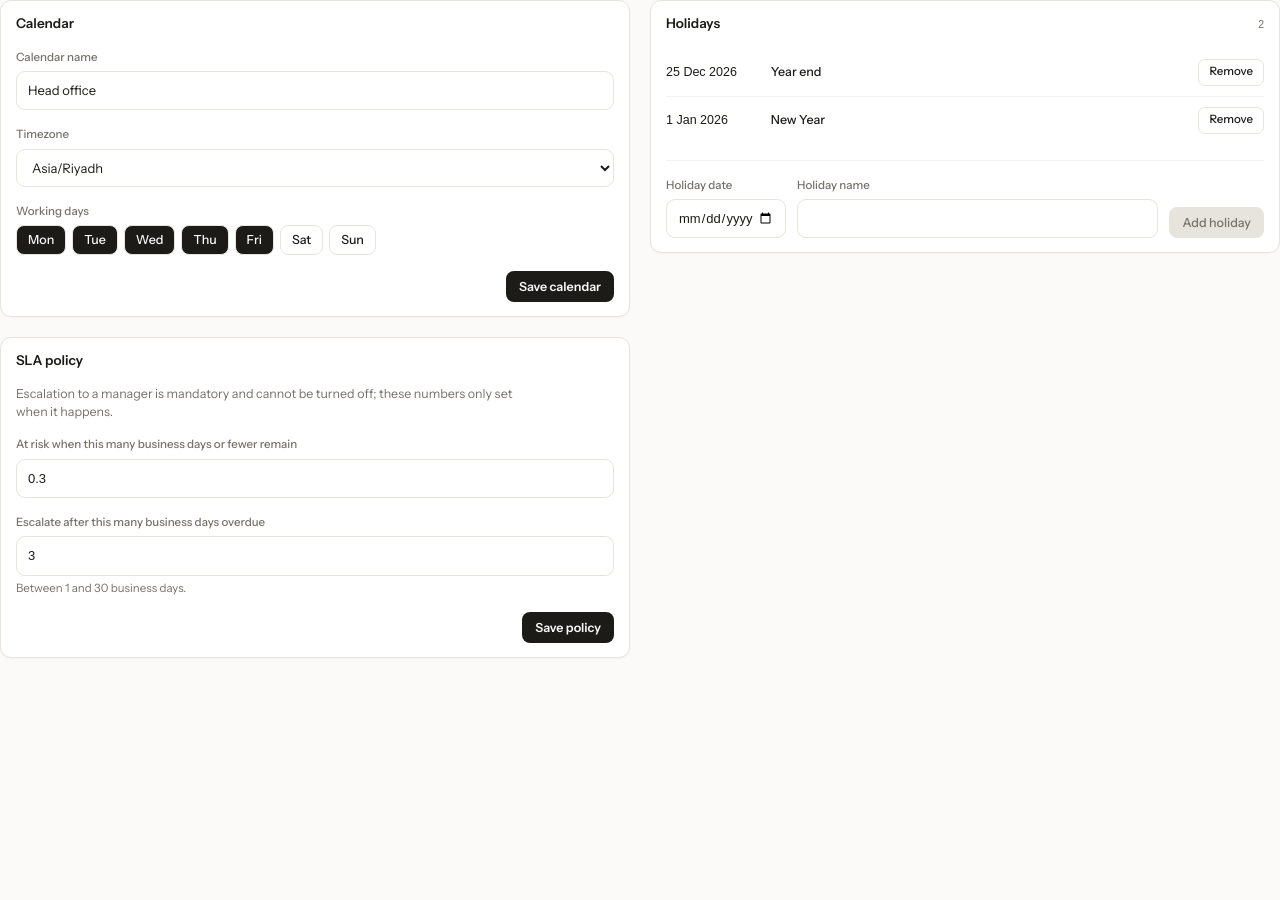
it: business calendar page › shows the server detail when the timezone is rejected
What coordinates should you click on to do the following:
click the button "Save calendar"
I would click on:
 (560, 286)
Its box is [506,271,614,302].
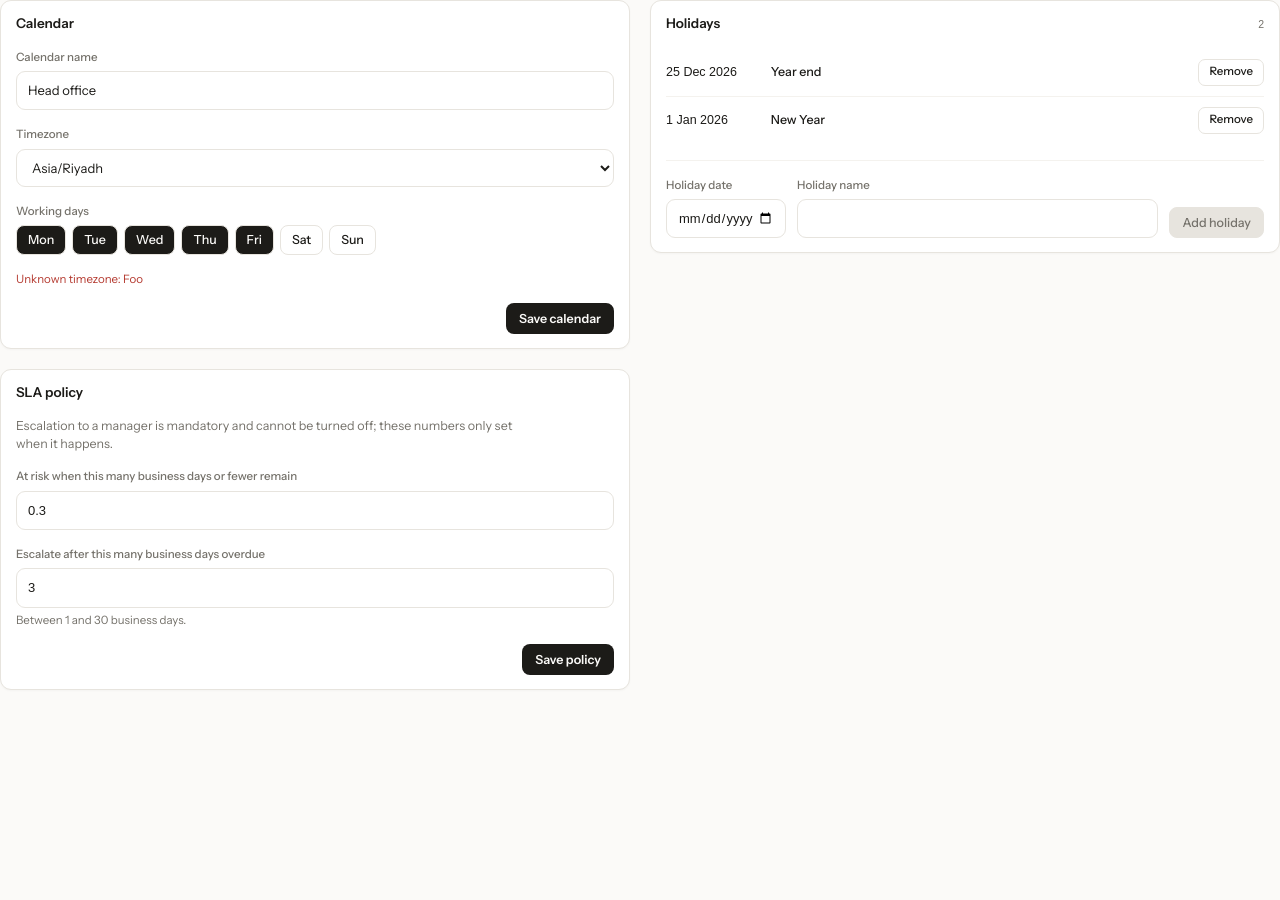
Check: the text "Unknown timezone: Foo" is shown, box [16,272,143,286]
